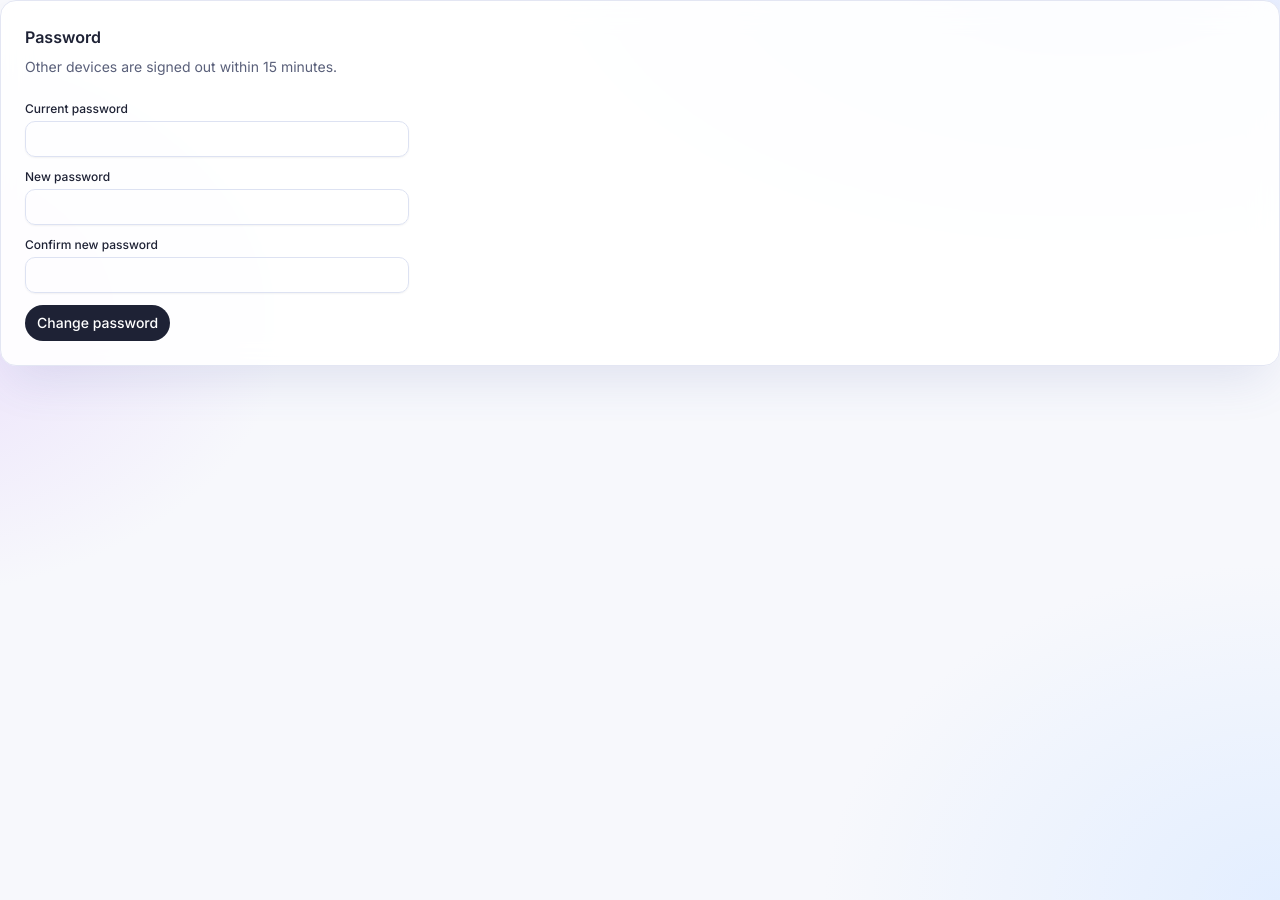
Test: PasswordCard › refuses a new password equal to the current one
Type "old-password-12" into the password field labelled "Current password".
click(217, 139); type("old-password-12")  # box [25,121,409,157]
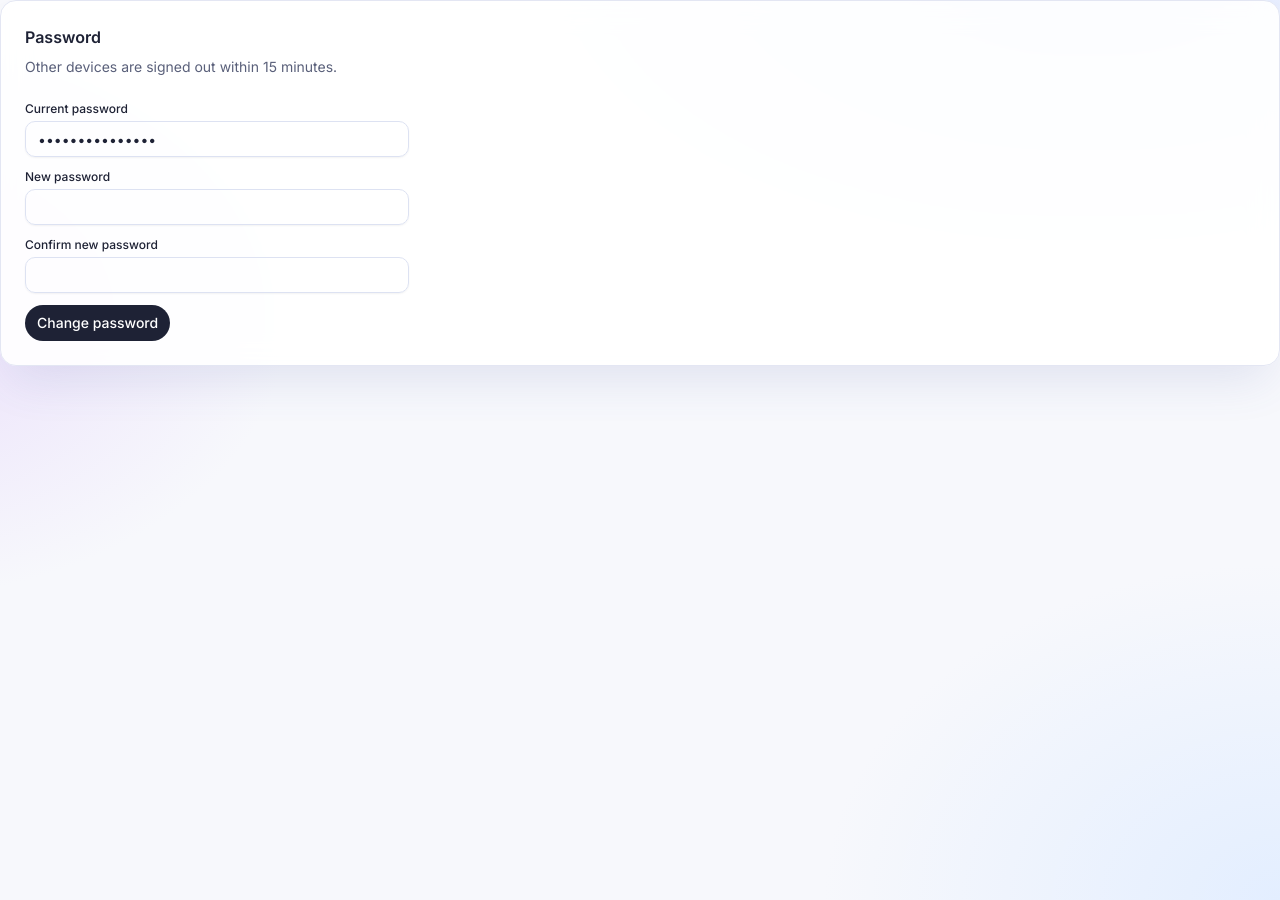
Type "old-password-12" into the password field labelled "New password".
click(217, 207); type("old-password-12")  # box [25,189,409,225]
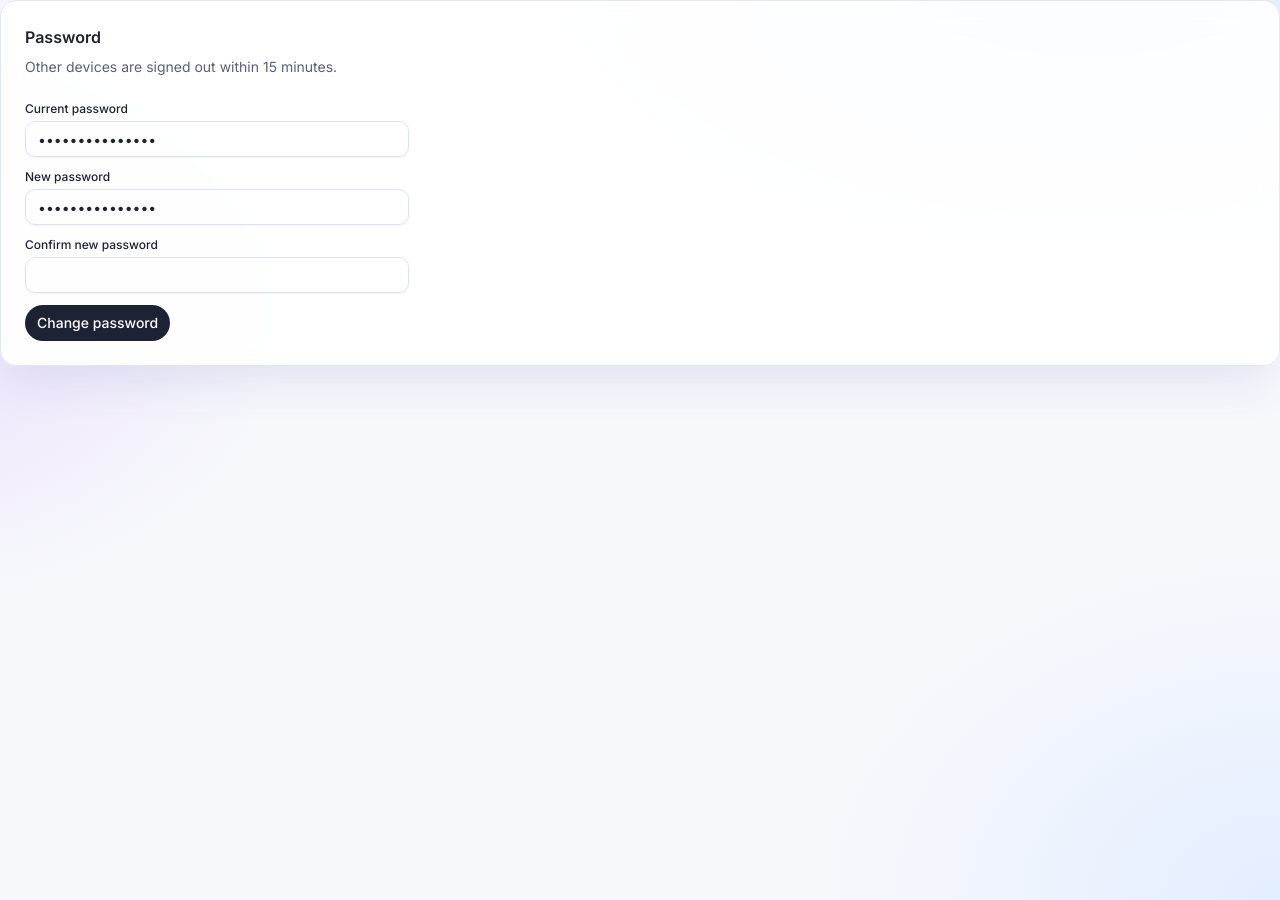
Type "old-password-12" into the password field labelled "Confirm new password".
click(217, 275); type("old-password-12")  # box [25,257,409,293]
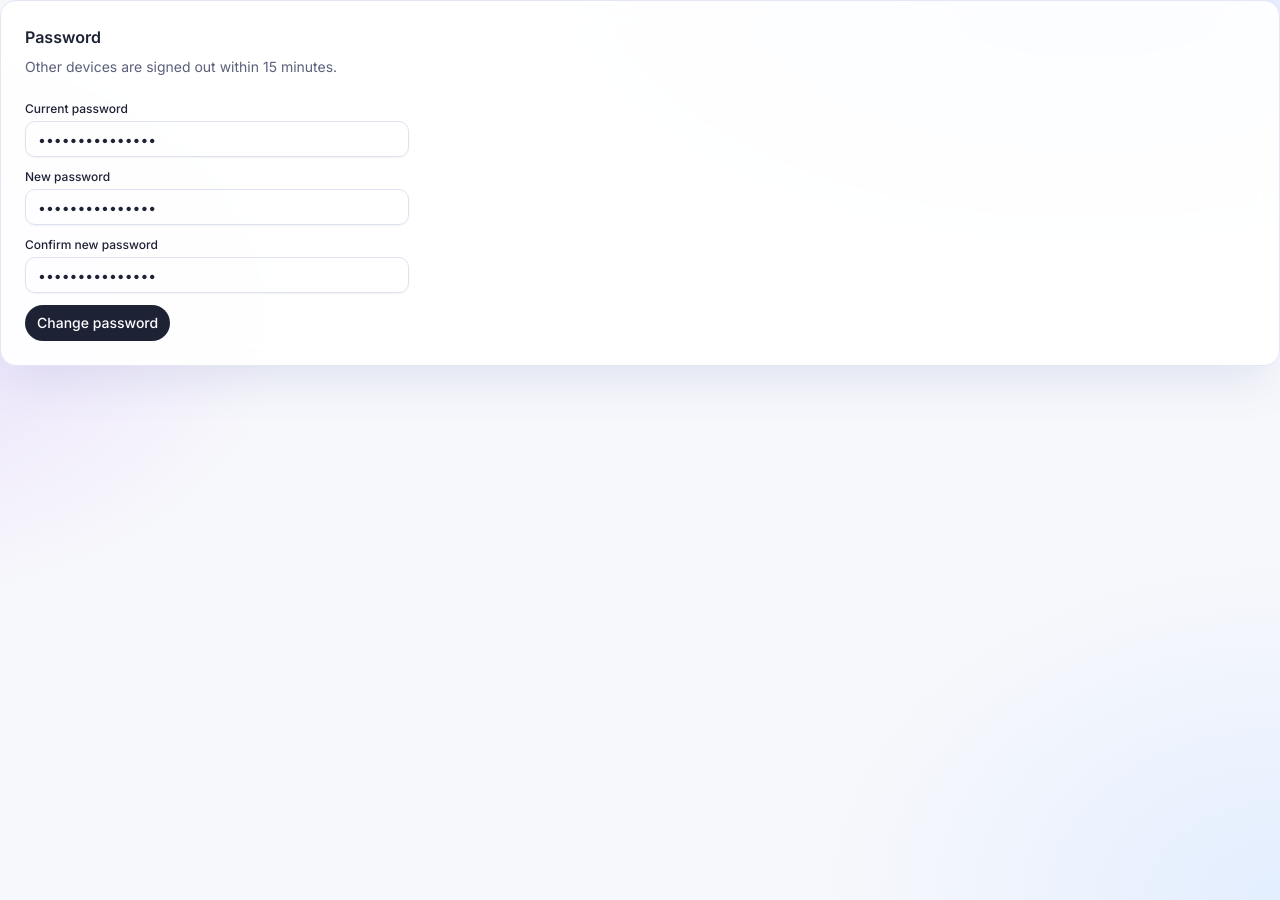
Click the button "Change password".
click(98, 323)  # box [25,305,170,341]
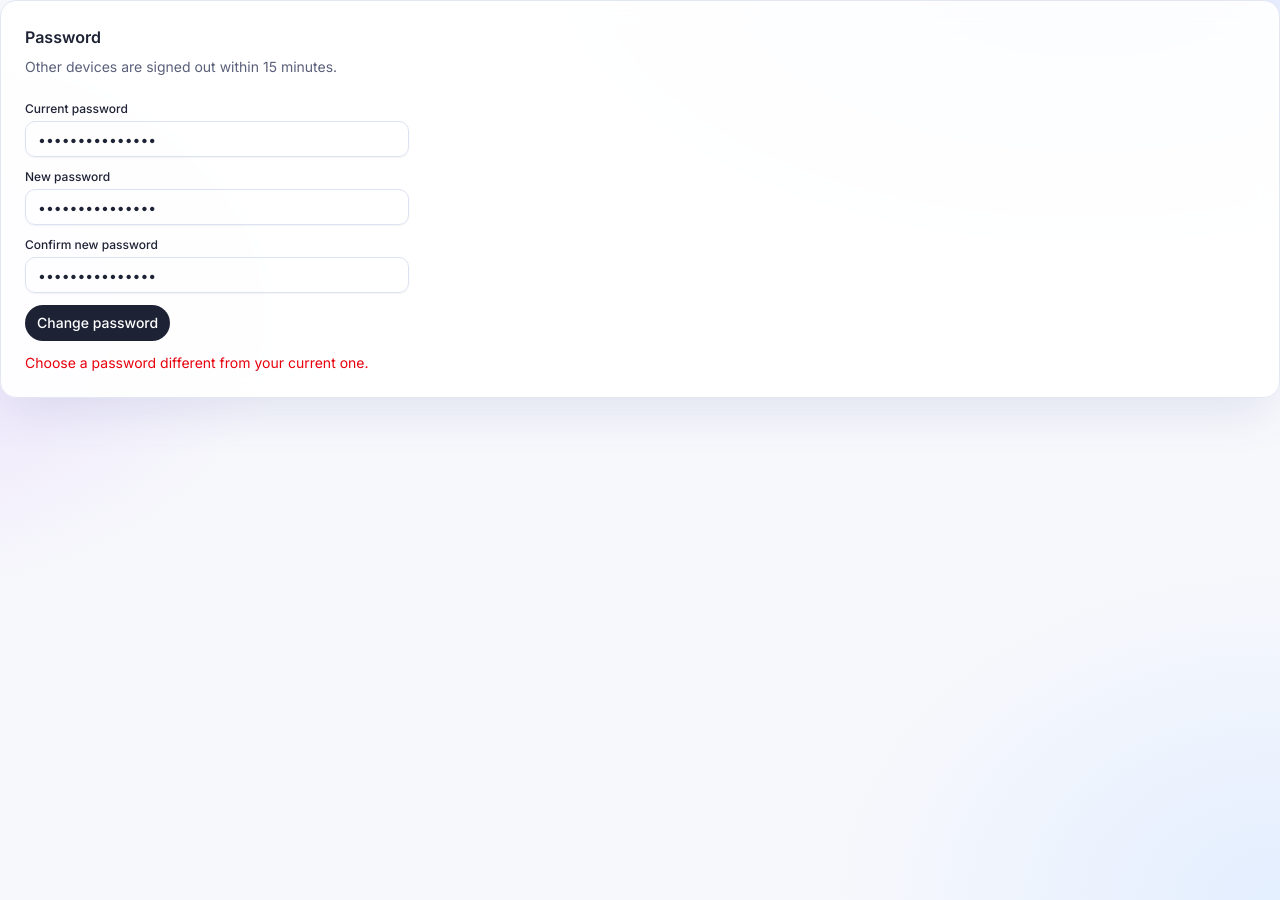
Expected: the message reads "Choose a password different from your current one.", [25,354,368,371]
